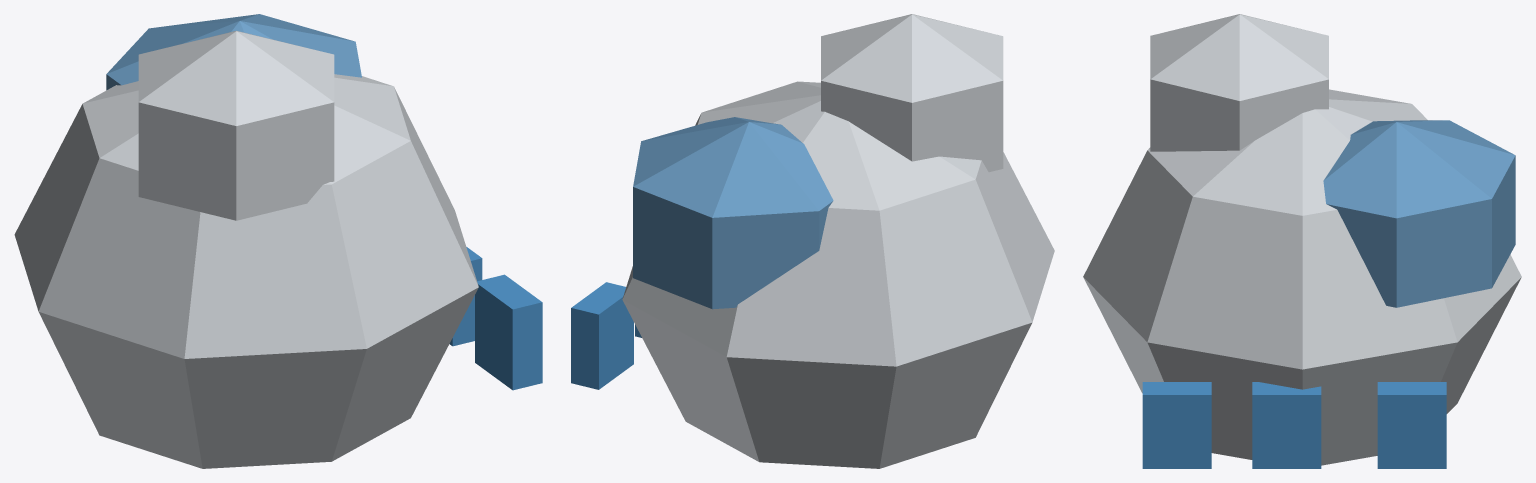
The model's file is roca_marmol.obj.
3 views of the same model, side by side, from view 1: azimuth 30°, elevation 25°; view 2: azimuth 150°, elevation 25°; view 3: azimuth 270°, elevation 25° (orthographic). The views are drawn at different scales.
Visible parts, largest first — view 1: roca_marmol; view 2: roca_marmol; view 3: roca_marmol.
Part boxes in pixels (bbox=[...]): roca_marmol: bbox=[14, 14, 542, 468]; roca_marmol: bbox=[571, 14, 1054, 468]; roca_marmol: bbox=[1083, 14, 1521, 468].
Size of the model in its own units: 14 by 14.84 by 14.
